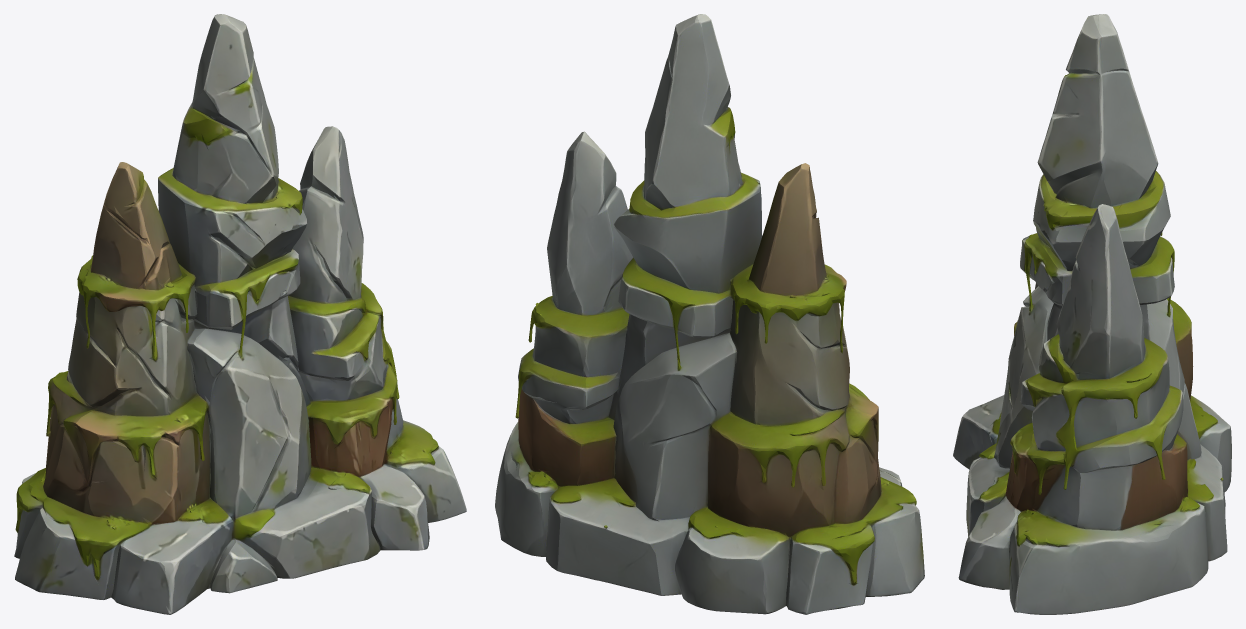
Rendered from base_basic_pbr.glb.
The picture shows the model from 3 angles, left to right: view 1: azimuth 30°, elevation 25°; view 2: azimuth 150°, elevation 25°; view 3: azimuth 270°, elevation 25°; orthographic projection. The views are drawn at different scales.
Parts seen in each view (by area): view 1: Mesh; view 2: Mesh; view 3: Mesh.
Part boxes in pixels (bbox=[...]): Mesh: bbox=[14, 14, 466, 614]; Mesh: bbox=[495, 14, 924, 614]; Mesh: bbox=[953, 14, 1231, 614].
Bounding box in the file's own units: 1.58 × 1.89 × 0.9474.
1 material, 1 textured.
